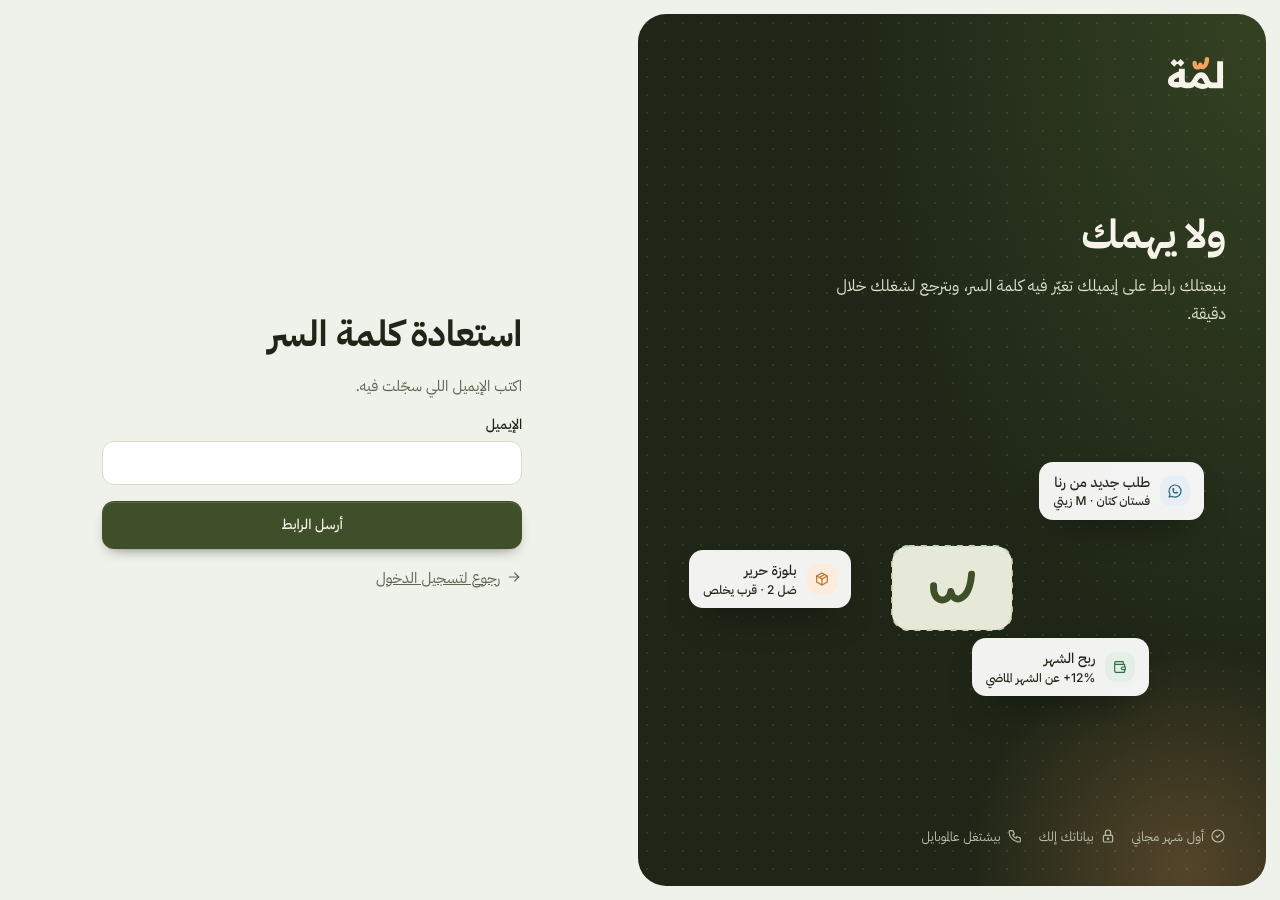
Scenario: authentication pages › forgot password confirms without revealing whether the email exists
Type "anyone@example.com" into the field labelled "الإيميل".
click(312, 462); type("anyone@example.com")  # box [115,442,509,484]
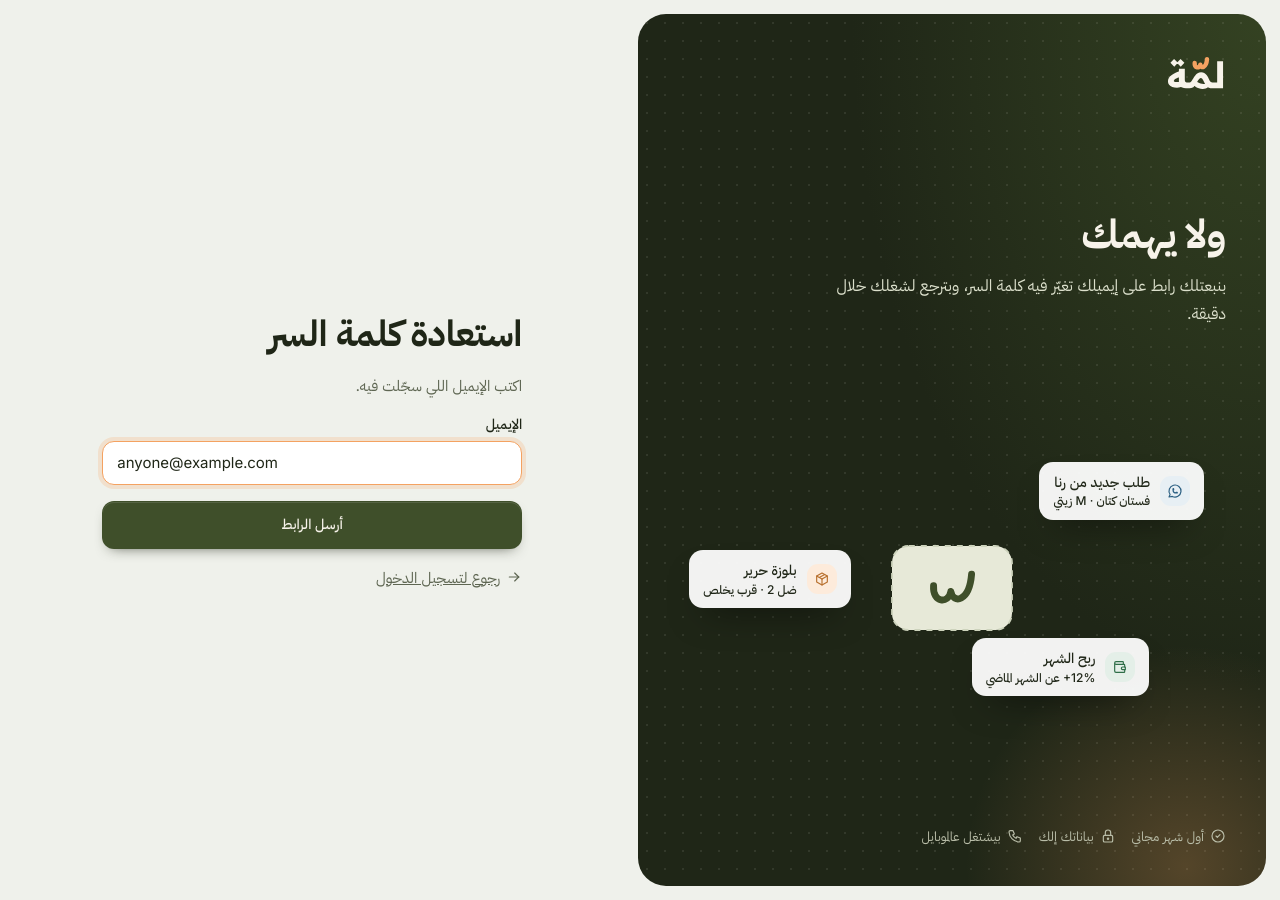
Click the button "أرسل الرابط".
click(312, 524)  # box [102,500,522,548]
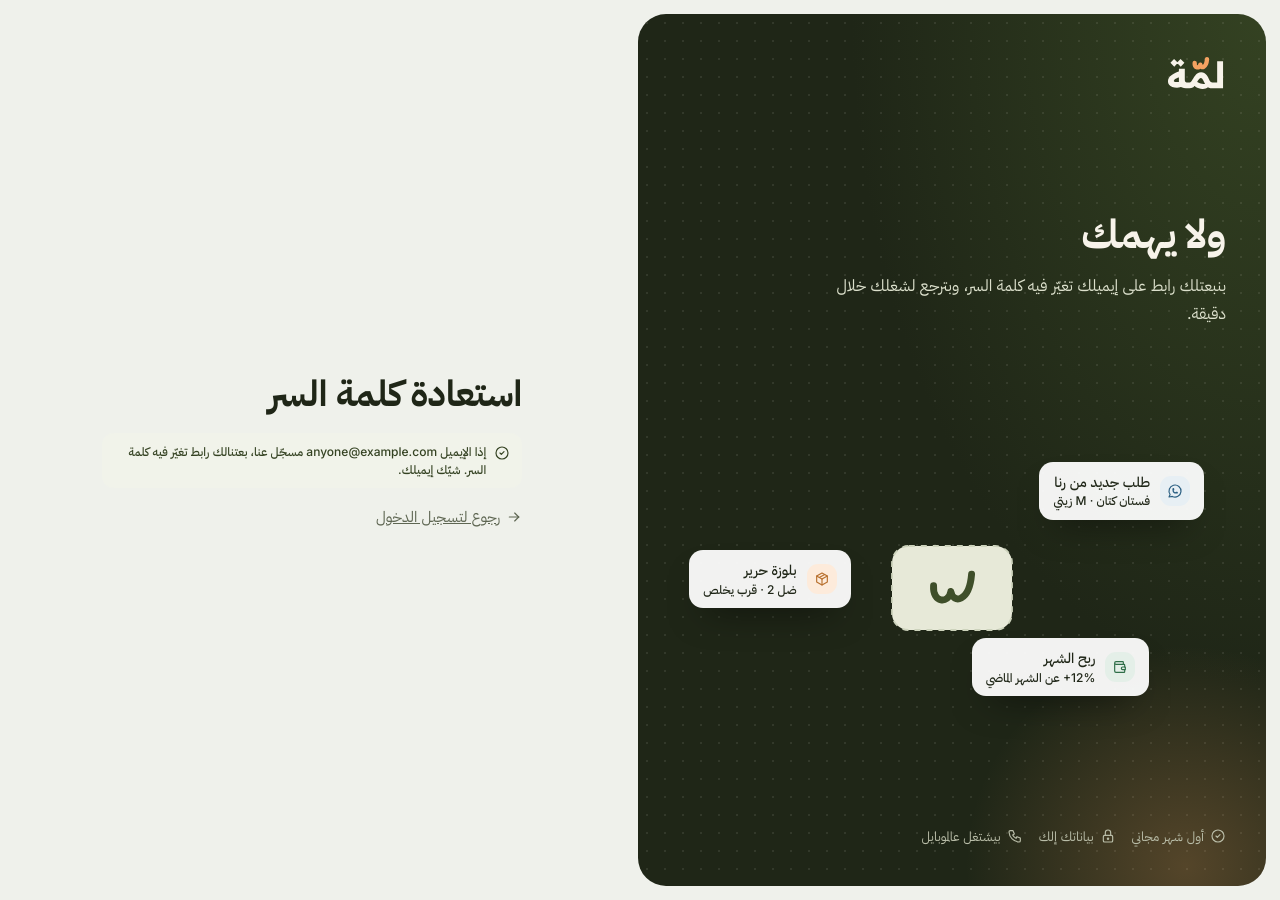
Check: the text "إذا الإيميل anyone@example.com مسجّل عنا" is shown, box [114,443,486,478]
